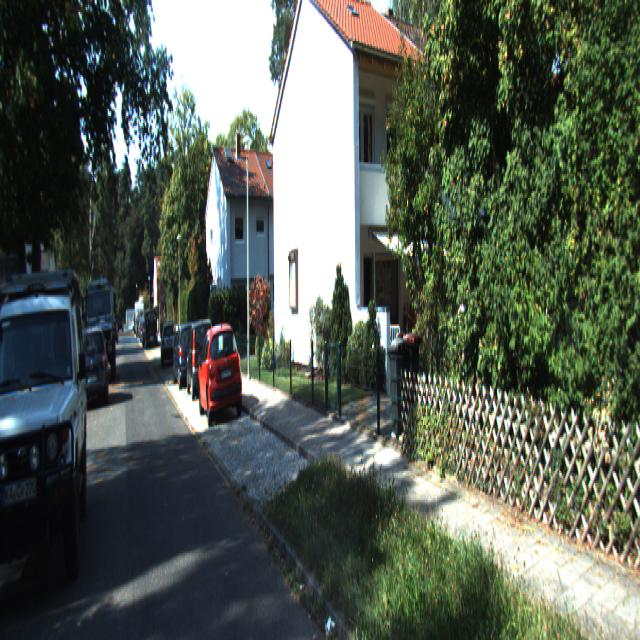Car: (0, 246, 88, 612), (197, 317, 243, 427), (76, 324, 107, 412), (184, 321, 214, 402), (172, 321, 200, 391), (160, 321, 177, 368)
DontCare: (132, 309, 158, 345), (118, 313, 123, 327)
Truck: (83, 281, 114, 383)
